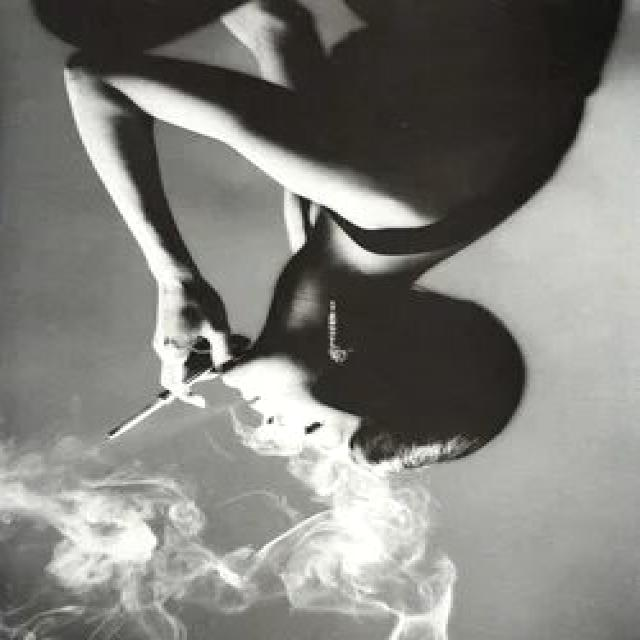cigarette: (107, 356, 225, 446)
